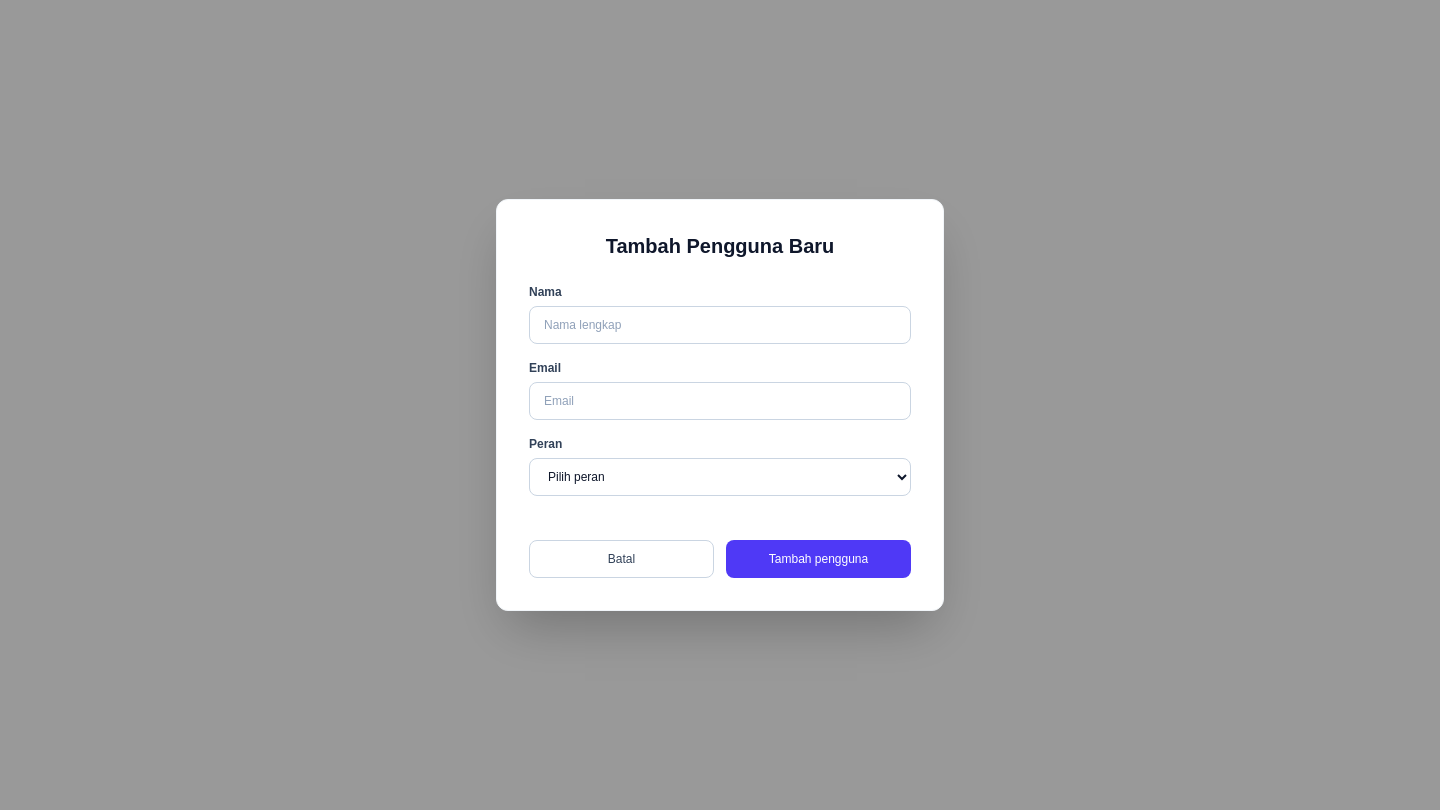
Scenario: CreateUserModal › shows a readable fallback instead of the raw code
The image size is (1440, 810).
Type "Budi Author" into the field labelled "Nama".
click(720, 325); type("Budi Author")  # box [529,306,911,344]
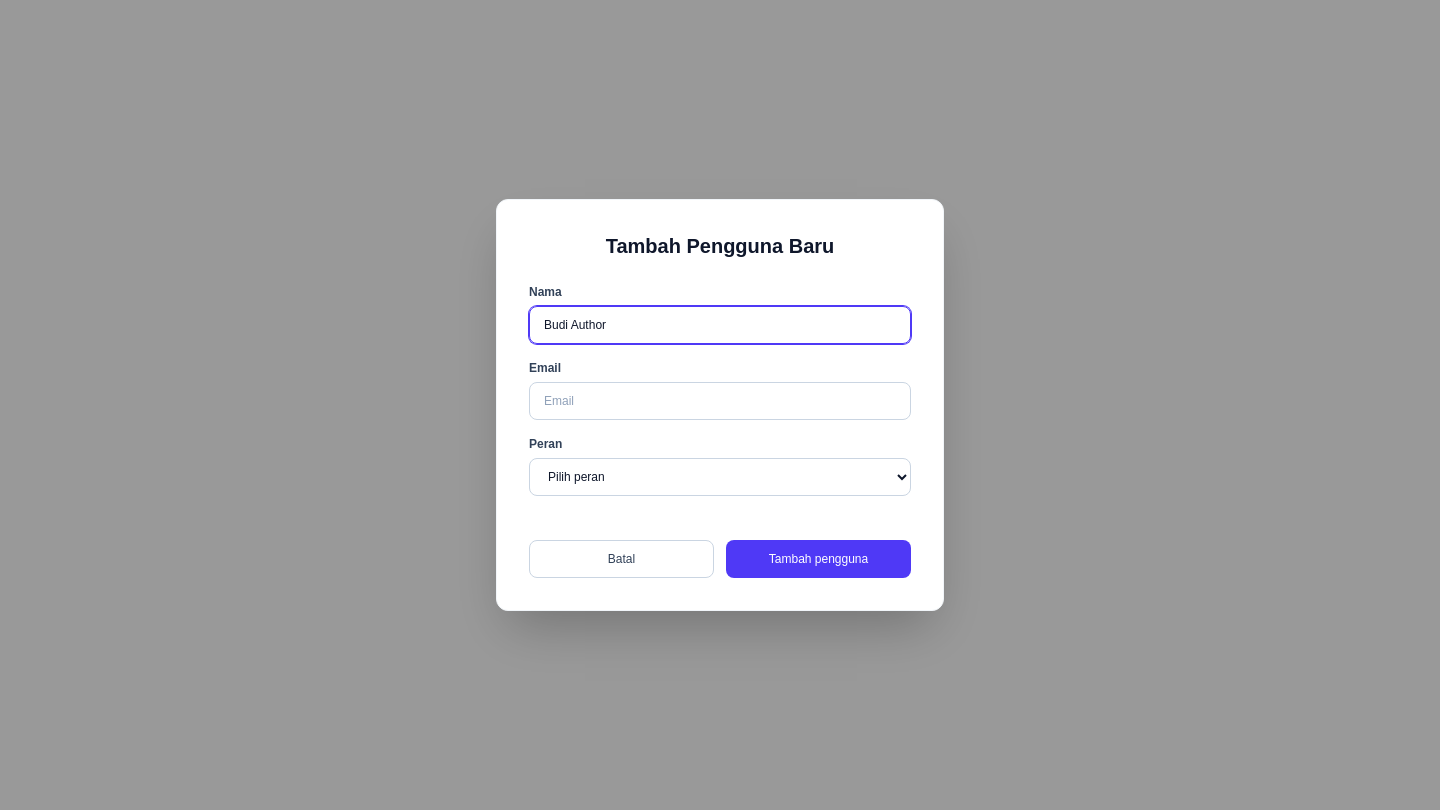
Type "budi@veritask.ai" into the field labelled "Email".
click(720, 401); type("budi@veritask.ai")  # box [529,382,911,420]
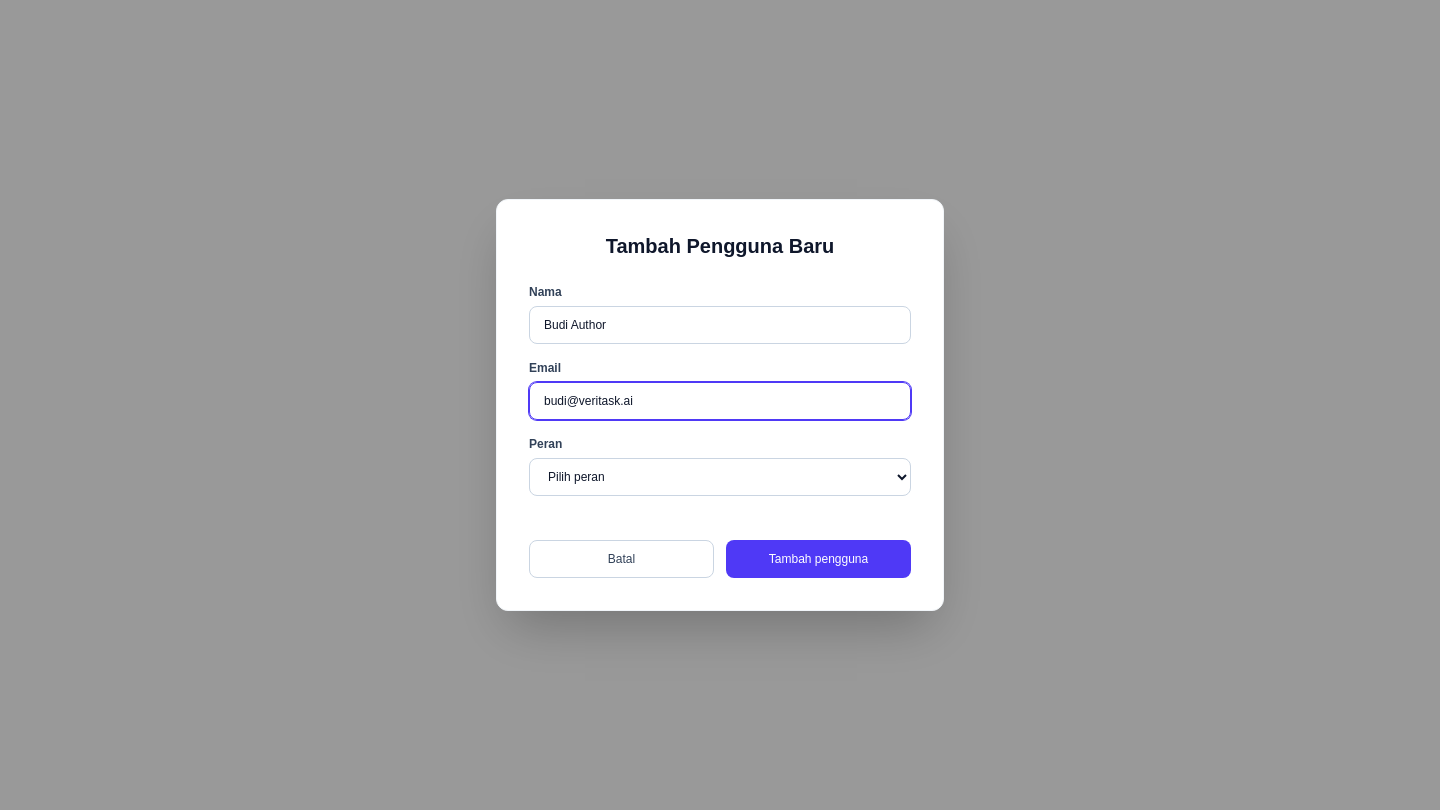
Select "Kontributor" in the dropdown labelled "Peran" at (720, 477), box [529,458,911,496]
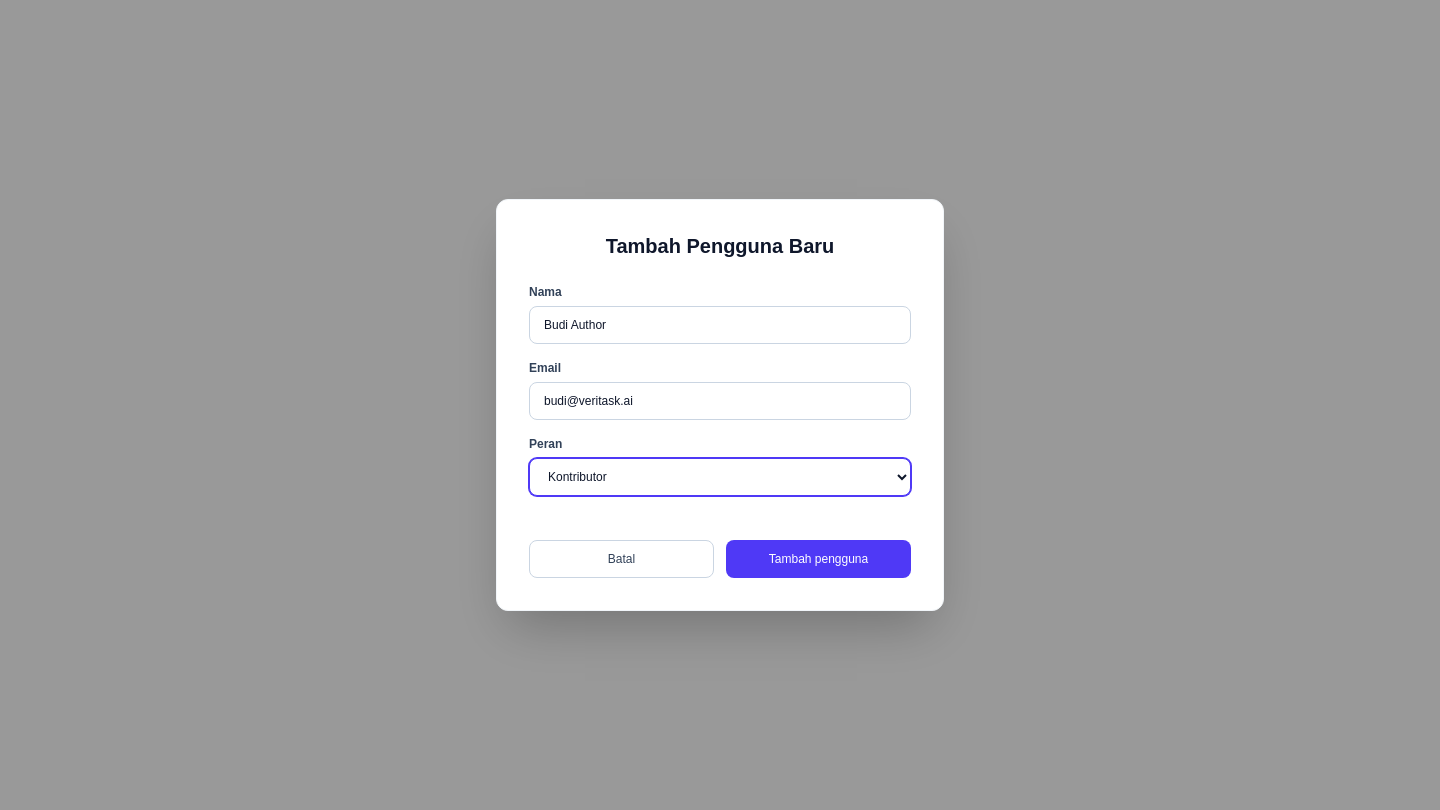
Click the button "Tambah pengguna".
click(818, 559)  # box [726,540,911,578]
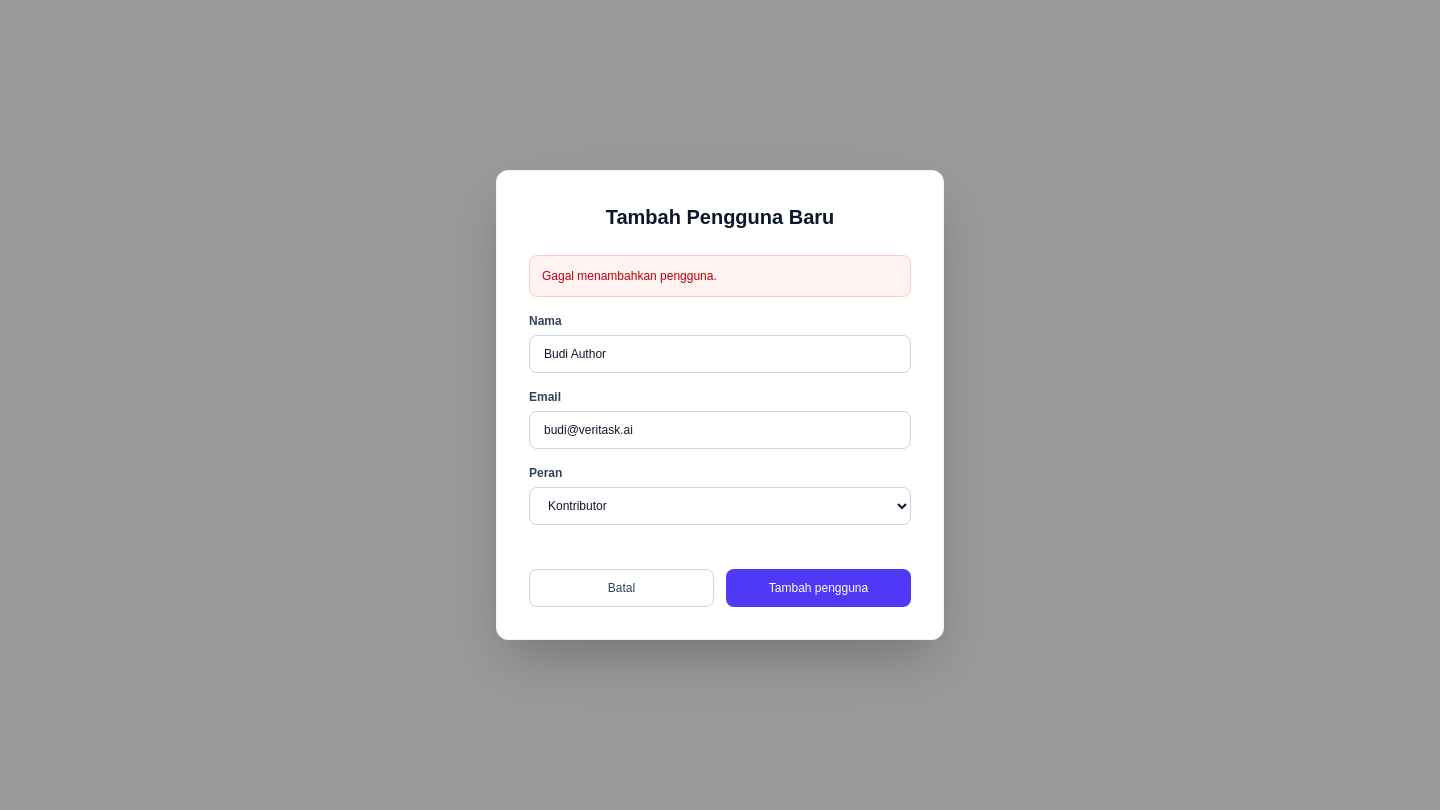
Check: the message does not show "UNKNOWN_ERROR", box [529,255,911,297]
Check: the message reads "Gagal menambahkan pengguna.", box [542,269,717,283]
